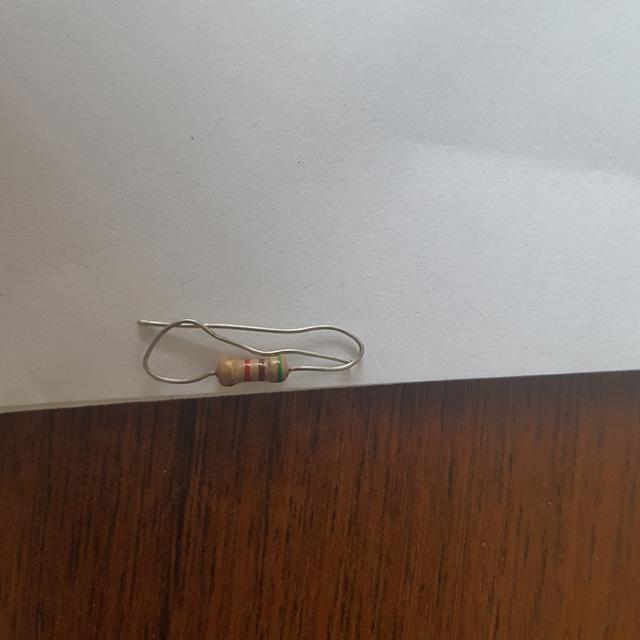brown: (259, 359, 263, 379)
gold: (228, 359, 232, 382)
green: (277, 356, 282, 380)
red: (245, 360, 249, 379)
resistor: (214, 353, 293, 387)
